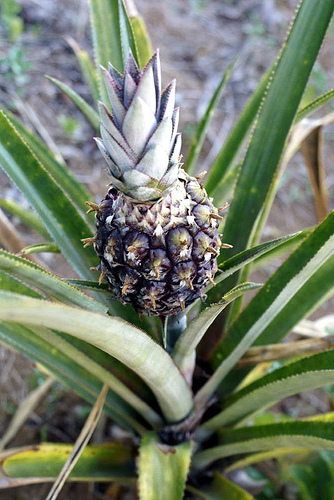pineapple: (41, 43, 232, 318)
